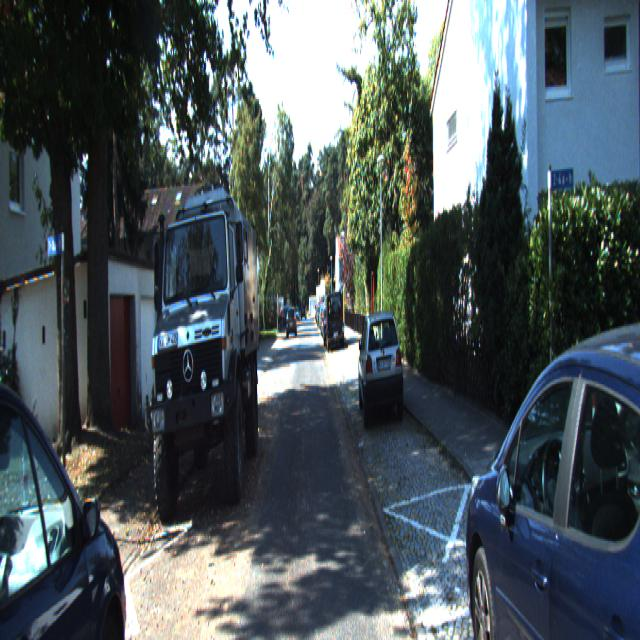Car: (462, 302, 640, 638), (0, 339, 134, 639), (150, 186, 260, 522), (356, 308, 405, 429), (325, 290, 344, 352), (286, 306, 297, 336)
